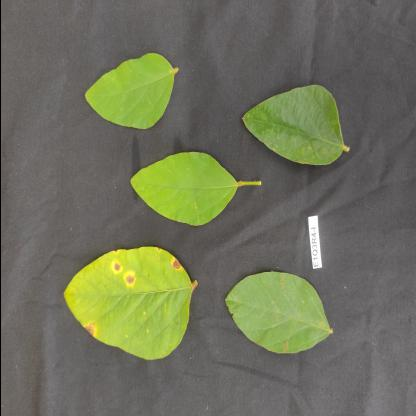label: (308, 209, 330, 268)
leaflets: (54, 239, 206, 373), (218, 256, 340, 356), (77, 36, 177, 142), (241, 72, 352, 165), (126, 142, 243, 229)
